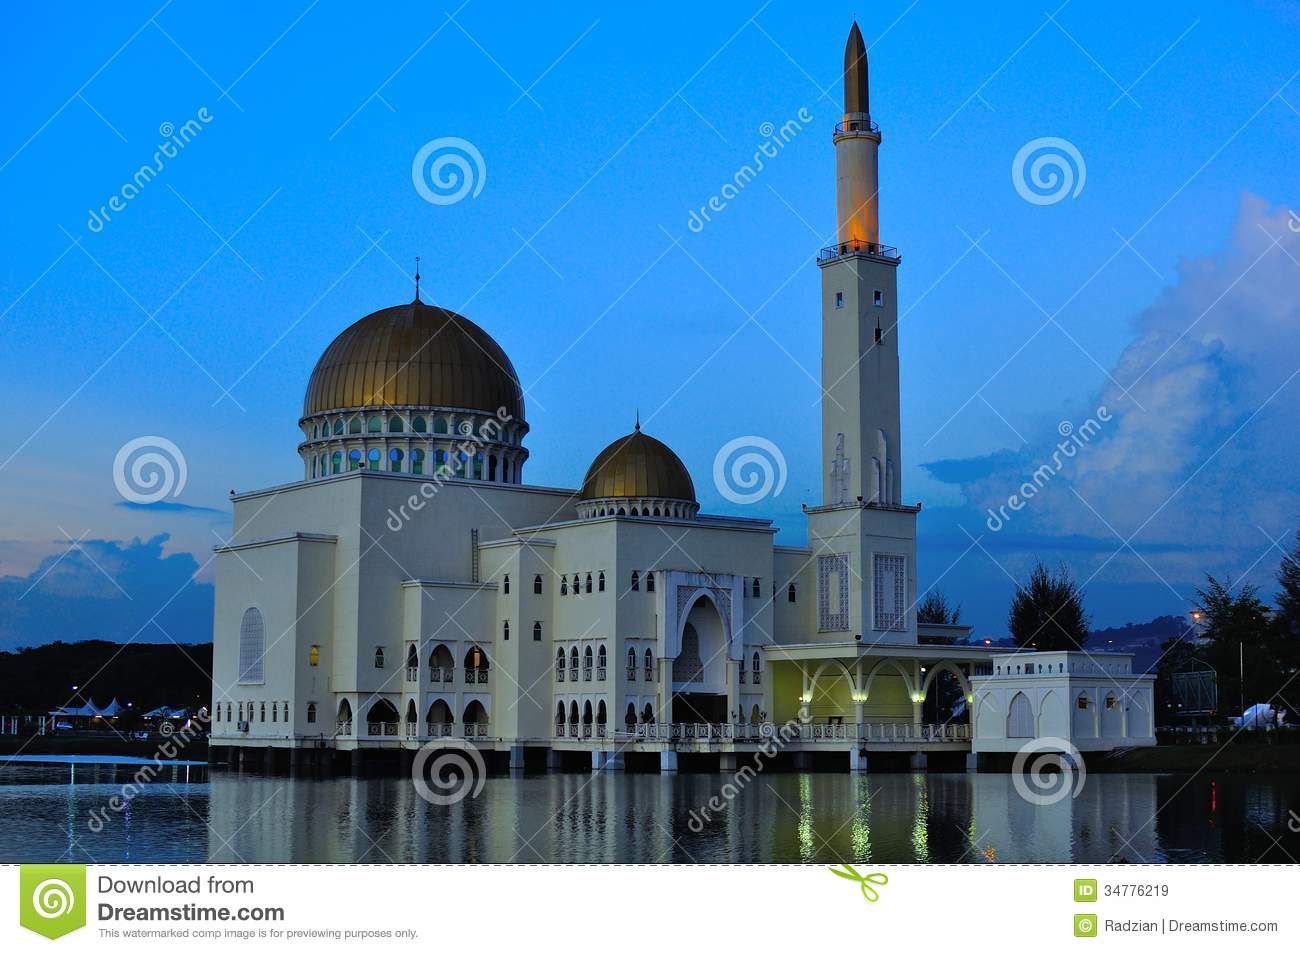Mosque: (168, 39, 1168, 777)
